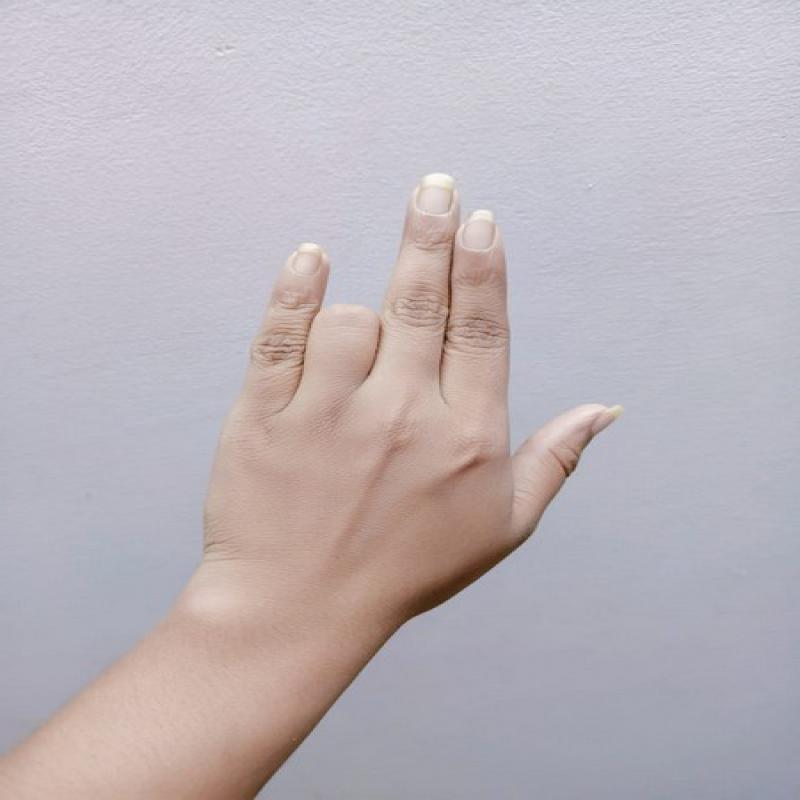Pathaaka: (157, 148, 632, 614)
